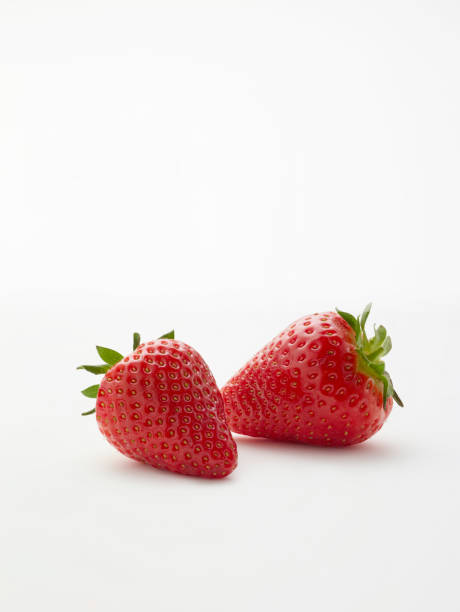Fresa: (219, 305, 395, 463), (96, 334, 244, 486)
